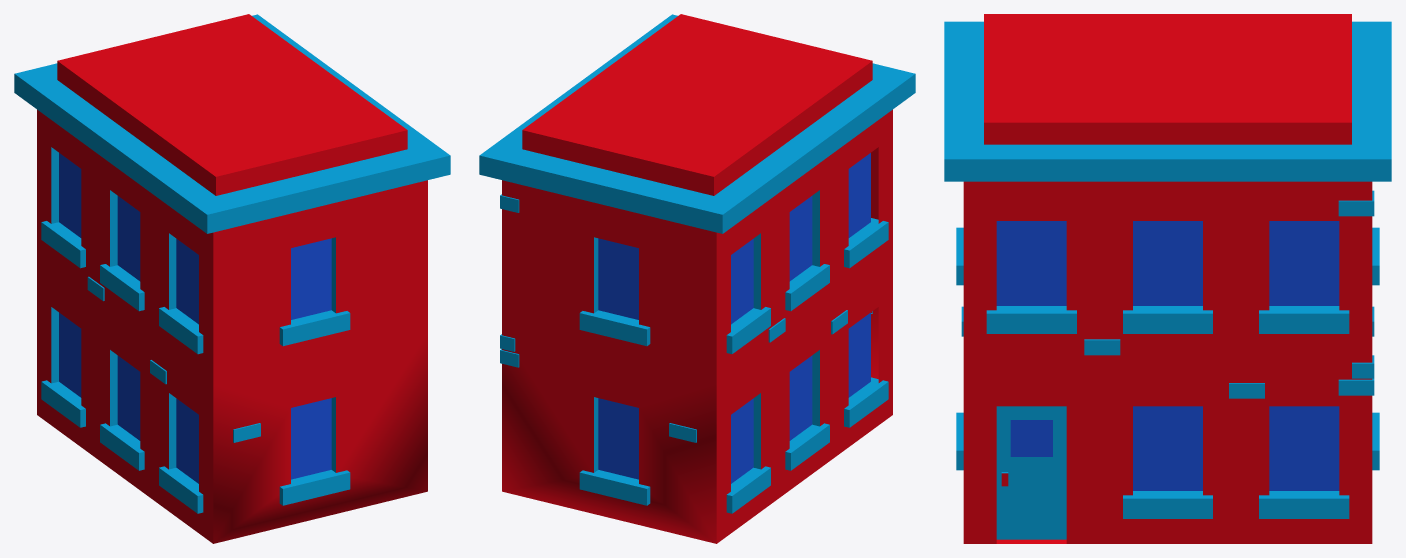
The model's file is house_2.fbx.
The picture shows the model from 3 angles, left to right: view 1: azimuth 30°, elevation 25°; view 2: azimuth 150°, elevation 25°; view 3: azimuth 270°, elevation 25°; orthographic projection. The views are drawn at different scales.
Parts seen in each view (by area): view 1: Building_4; view 2: Building_4; view 3: Building_4.
Part boxes in pixels (x1,y1,x2,y2): Building_4: (14,14,450,543); Building_4: (479,14,915,543); Building_4: (944,14,1391,543).
Bounding box in the file's own units: 665 × 934 × 912.
